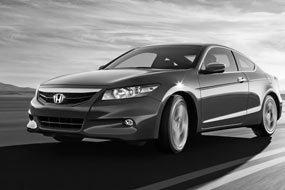car: (27, 45, 284, 155)
